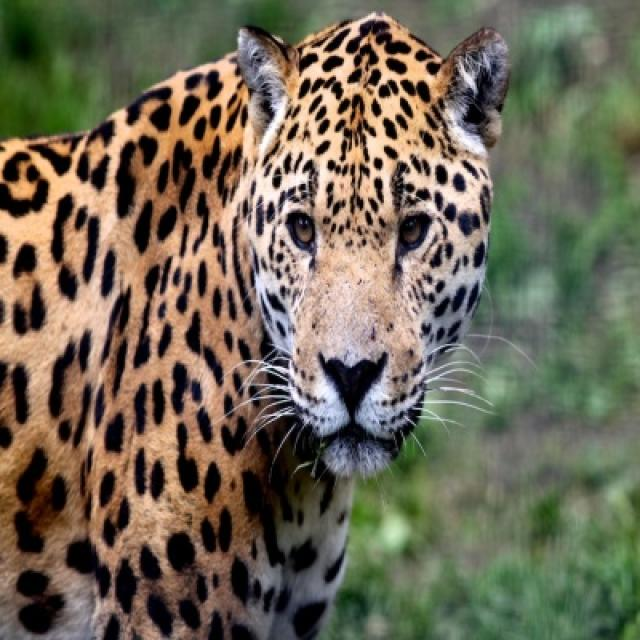Jaguar: (0, 13, 510, 638)
